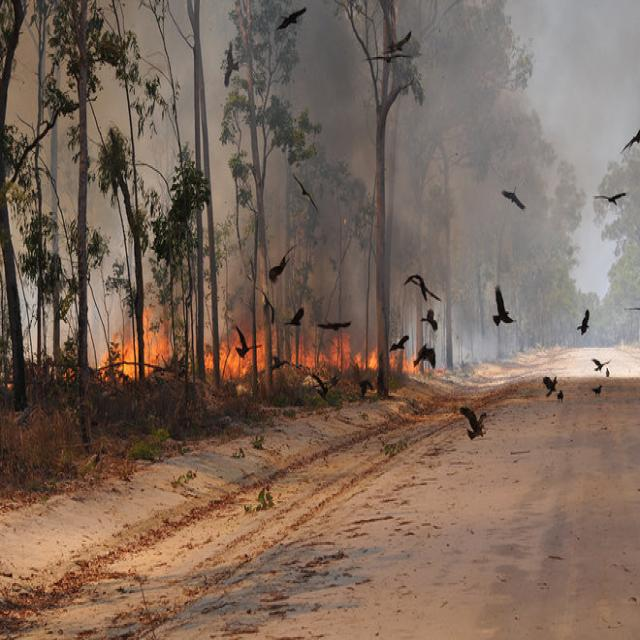Fire: (106, 319, 167, 383), (217, 326, 268, 390)
